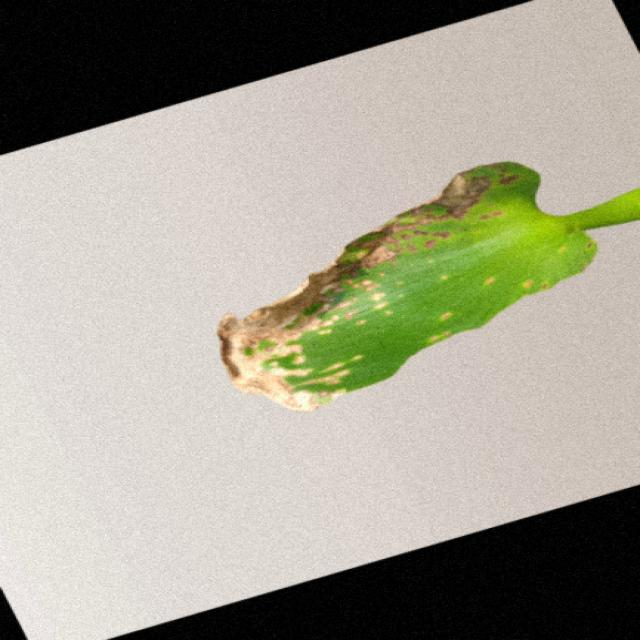daun berpenyakit bercak: (218, 162, 638, 411)
